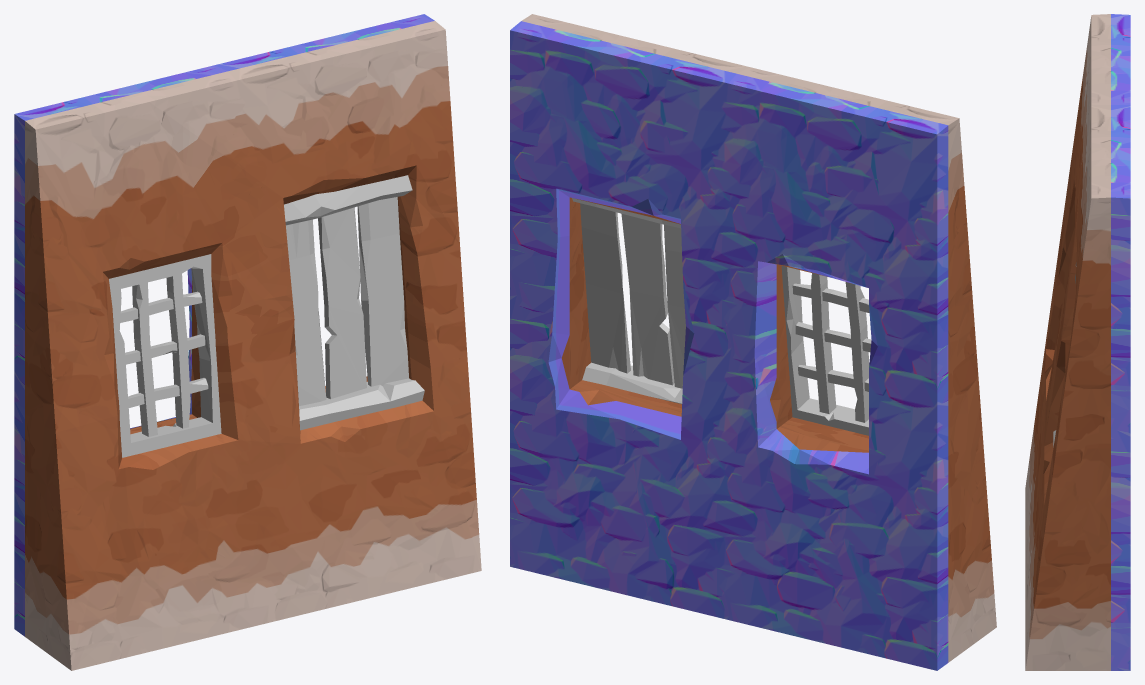
Rendered from SM_Bld_Wall_Top_Window_04.fbx.
3 views of the same model, side by side, from view 1: azimuth 30°, elevation 25°; view 2: azimuth 150°, elevation 25°; view 3: azimuth 270°, elevation 25° (orthographic). The views are drawn at different scales.
Parts seen in each view (by area): view 1: SM_Bld_Wall_Top_Window_04; view 2: SM_Bld_Wall_Top_Window_04; view 3: SM_Bld_Wall_Top_Window_04.
Boxes of the visible parts, x1,y1,x2,y2 form: SM_Bld_Wall_Top_Window_04: [14, 14, 481, 670]; SM_Bld_Wall_Top_Window_04: [510, 14, 996, 670]; SM_Bld_Wall_Top_Window_04: [1025, 14, 1130, 670].
Bounding box in the file's own units: 250 × 301 × 60.45.
